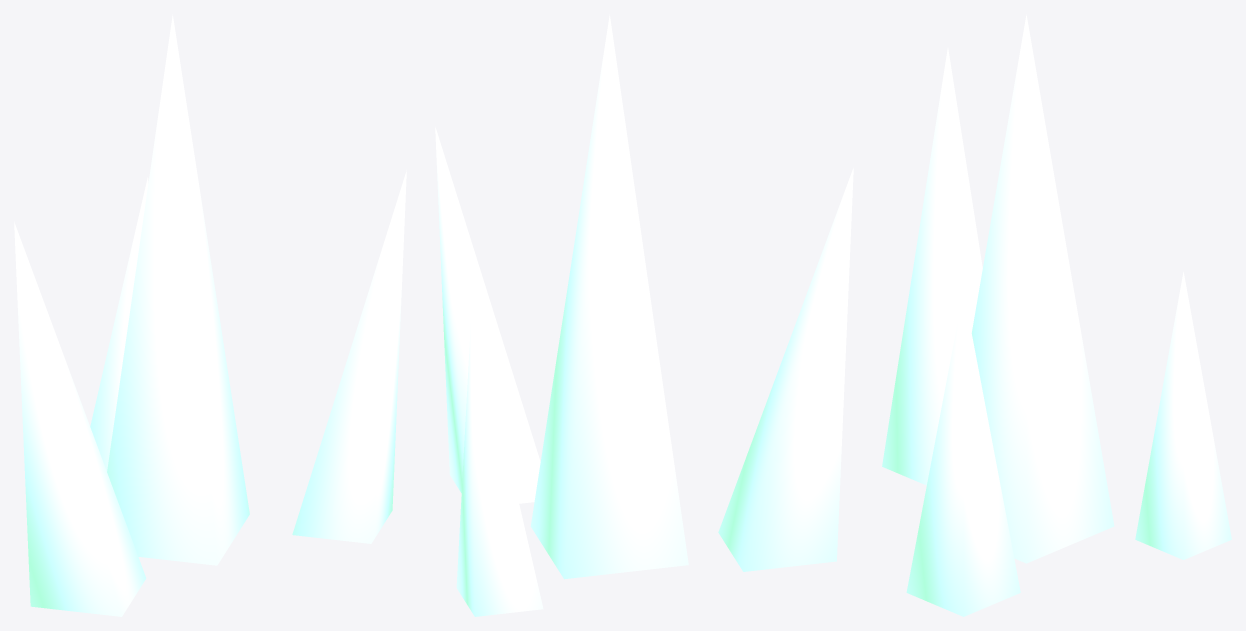
The model's file is SM_cv_crystal_green.glb.
3 renders of one model, left to right at view 1: azimuth 30°, elevation 25°; view 2: azimuth 150°, elevation 25°; view 3: azimuth 270°, elevation 25°, orthographic. The views are drawn at different scales.
Parts seen in each view (by area): view 1: SM_cv_crystal_green; view 2: SM_cv_crystal_green; view 3: SM_cv_crystal_green.
Part boxes in pixels (<box>): SM_cv_crystal_green: <box>14,14,406,616</box>; SM_cv_crystal_green: <box>435,14,853,616</box>; SM_cv_crystal_green: <box>882,14,1231,616</box>.
Size of the model in its own units: 1.45 by 1.8 by 1.11.
